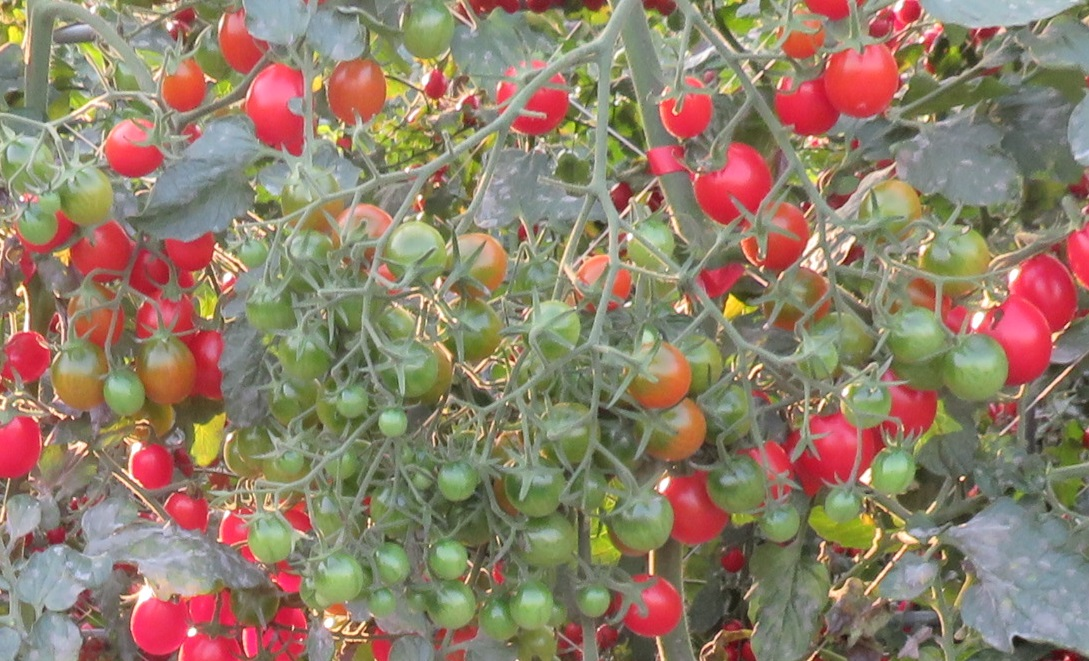green: (920, 225, 991, 294), (608, 489, 679, 555), (945, 334, 1010, 406), (438, 298, 505, 364), (856, 177, 925, 241), (521, 299, 586, 364), (703, 452, 766, 519), (880, 307, 947, 369), (385, 219, 445, 286), (60, 156, 111, 229), (500, 459, 563, 517), (382, 339, 439, 398), (517, 516, 580, 569), (1, 138, 57, 193), (2, 135, 56, 192), (283, 168, 342, 220), (868, 441, 919, 501), (402, 5, 456, 61), (282, 324, 334, 380), (838, 379, 894, 430), (426, 579, 478, 631), (628, 219, 676, 274), (318, 546, 365, 600), (508, 580, 555, 632), (435, 456, 482, 507), (245, 517, 292, 566), (98, 367, 147, 414), (684, 335, 723, 394), (757, 496, 799, 550), (370, 538, 412, 589), (514, 257, 565, 297), (16, 201, 59, 248), (234, 423, 272, 472), (478, 598, 520, 641), (795, 338, 839, 379), (822, 481, 863, 523), (425, 542, 471, 579), (309, 490, 344, 537), (334, 385, 373, 421), (572, 586, 611, 619), (325, 447, 359, 479), (274, 443, 306, 476), (238, 239, 269, 272), (399, 587, 431, 618), (376, 410, 409, 440), (362, 588, 398, 615), (34, 193, 63, 217)
orange: (824, 31, 901, 121), (736, 199, 811, 269), (621, 343, 692, 410), (633, 407, 711, 462), (327, 57, 387, 128), (766, 270, 832, 334), (444, 231, 507, 297), (140, 339, 200, 406), (52, 336, 105, 410), (332, 203, 391, 269), (158, 58, 207, 114), (776, 10, 826, 59)
red: (693, 139, 771, 226), (494, 59, 571, 134), (659, 471, 730, 545), (242, 63, 306, 145), (1011, 253, 1078, 331), (612, 576, 683, 642), (1000, 299, 1054, 384), (105, 114, 168, 179), (880, 368, 938, 437), (130, 593, 190, 656), (242, 603, 307, 661), (67, 224, 132, 282), (774, 64, 824, 137), (657, 76, 714, 139), (216, 7, 269, 74), (127, 246, 197, 296), (135, 288, 197, 339), (192, 330, 232, 404), (746, 440, 795, 496), (1, 331, 52, 383), (1, 417, 40, 479), (163, 488, 210, 538), (178, 626, 243, 661), (130, 441, 175, 491), (165, 231, 215, 272), (219, 507, 252, 549), (425, 69, 447, 101), (866, 14, 894, 38), (895, 1, 923, 23), (721, 548, 746, 572)
